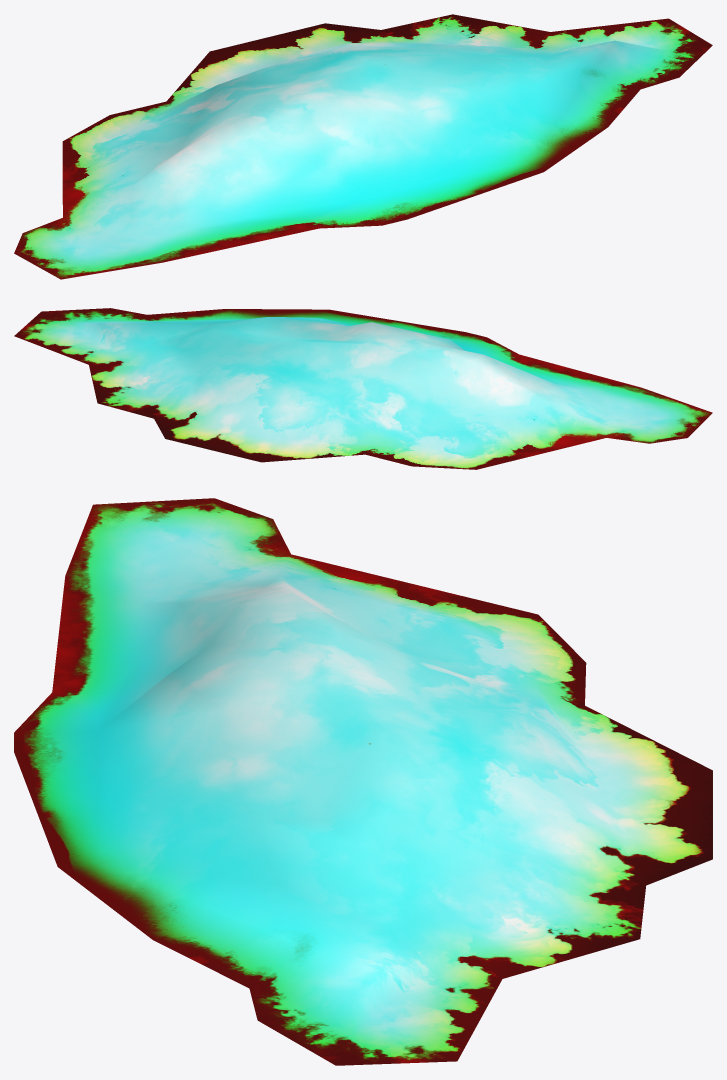
Rendered from Mesh_QuantumMetaCloud_8.FBX.
3 renders of one model, top to bottom at view 1: azimuth 30°, elevation 25°; view 2: azimuth 150°, elevation 25°; view 3: azimuth 270°, elevation 25°, orthographic. The views are drawn at different scales.
Visible parts, largest first — view 1: Mesh_QuantumMetaCloud_8; view 2: Mesh_QuantumMetaCloud_8; view 3: Mesh_QuantumMetaCloud_8.
Part boxes in pixels (left/top/right/bottom): Mesh_QuantumMetaCloud_8: left=14, top=14, right=712, bottom=279; Mesh_QuantumMetaCloud_8: left=14, top=308, right=712, bottom=469; Mesh_QuantumMetaCloud_8: left=14, top=498, right=712, bottom=1065.
Bounding box in the file's own units: 961 × 500 × 70.16.
